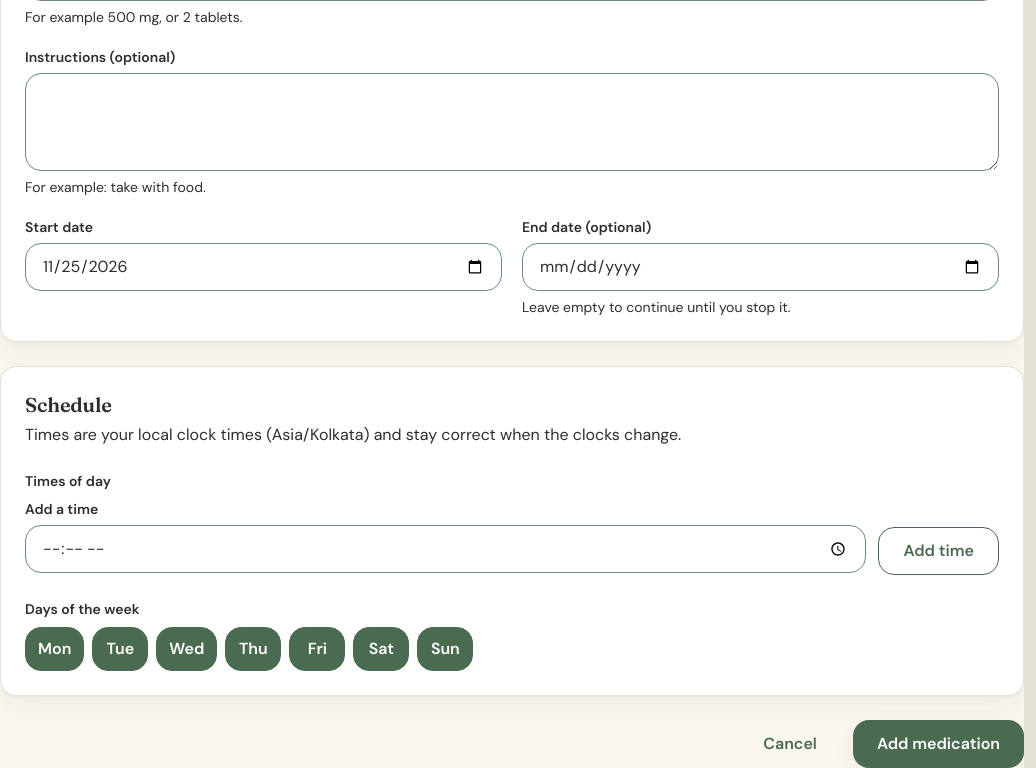
Scenario: validation messages (before anything is sent) › shows every missing required field at once, focuses the first, and sends nothing
(page scrolled)
Click the button "Add medication" at (938, 744), box [853, 720, 1024, 767]
(page scrolled)
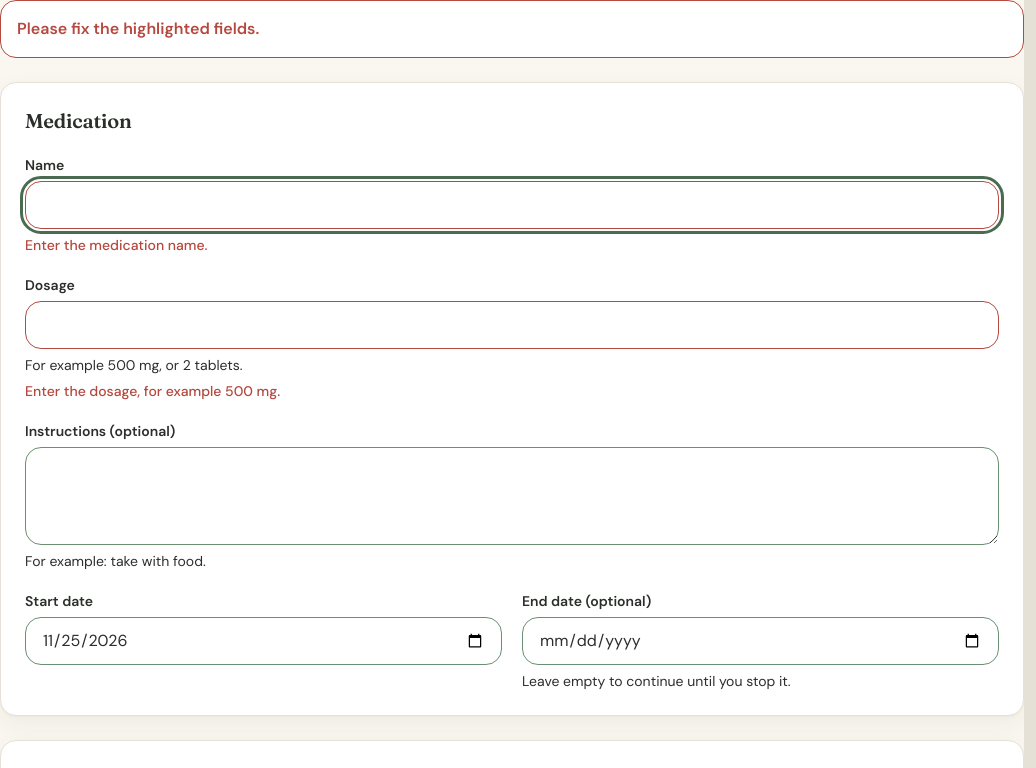
Now the text "Enter the medication name." is shown, box [25, 236, 208, 254]
Now the text "Enter the dosage, for example 500 mg." is shown, box [25, 382, 280, 400]
Now the message reads "Please fix the highlighted fields.", box [17, 18, 259, 39]
